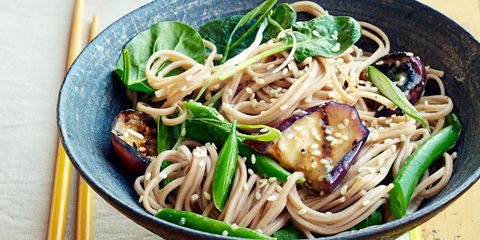Soba: (137, 30, 458, 223)
